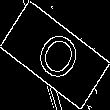O_SW: (26, 22, 84, 88)
